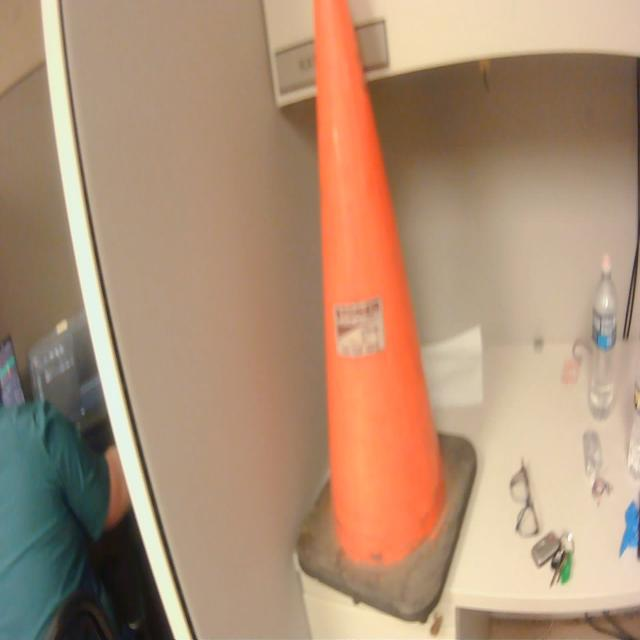traffic cone: (295, 1, 483, 629)
